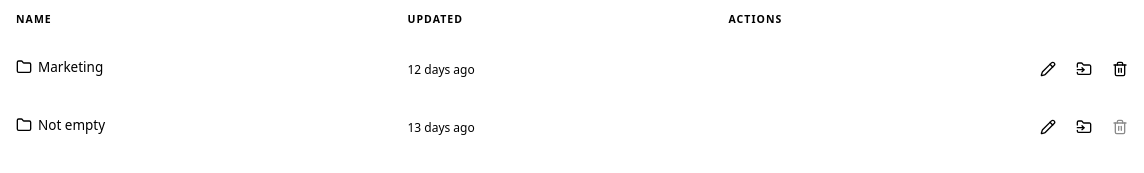
Test: FilesTable - folders › shows a message and stays in edit mode when a folder rename fails
Step 1. Click the button named "Rename" in the row of "Marketing" → (1048, 69), box [1032,53,1064,85]
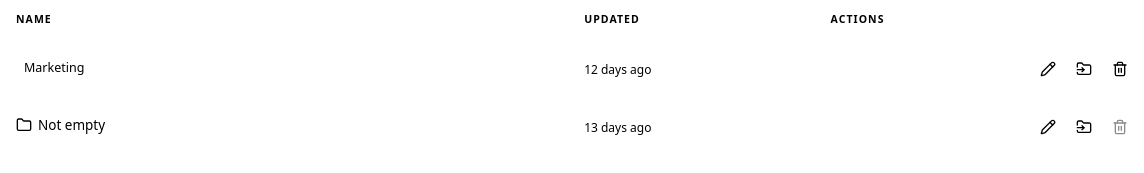
Step 2. Replace the text in the field named "Folder name" with "Growth" → (284, 69), box [24,53,544,84]
Then press Enter
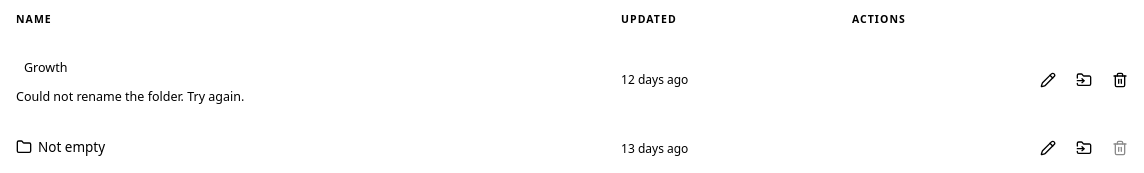
Expected: the text "Could not rename the folder. Try again." is shown, [16,88,244,104]
